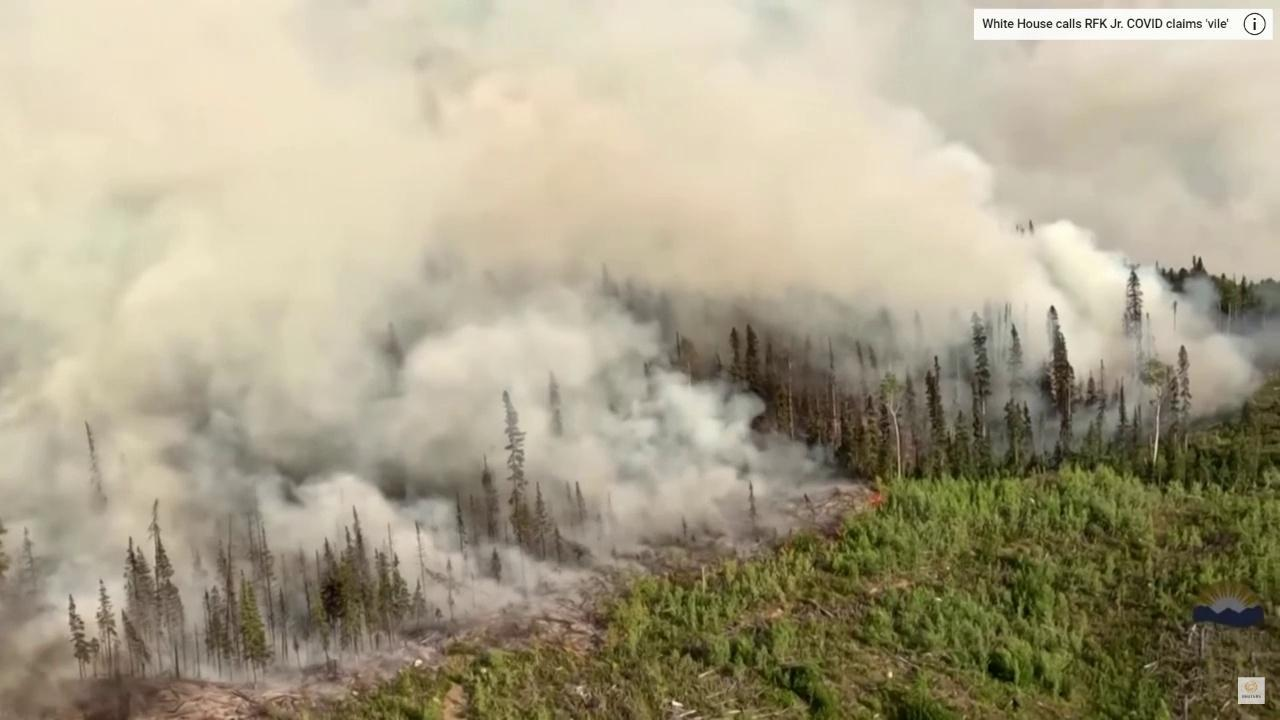fire: (864, 488, 886, 510)
smoke: (0, 0, 1280, 720)
